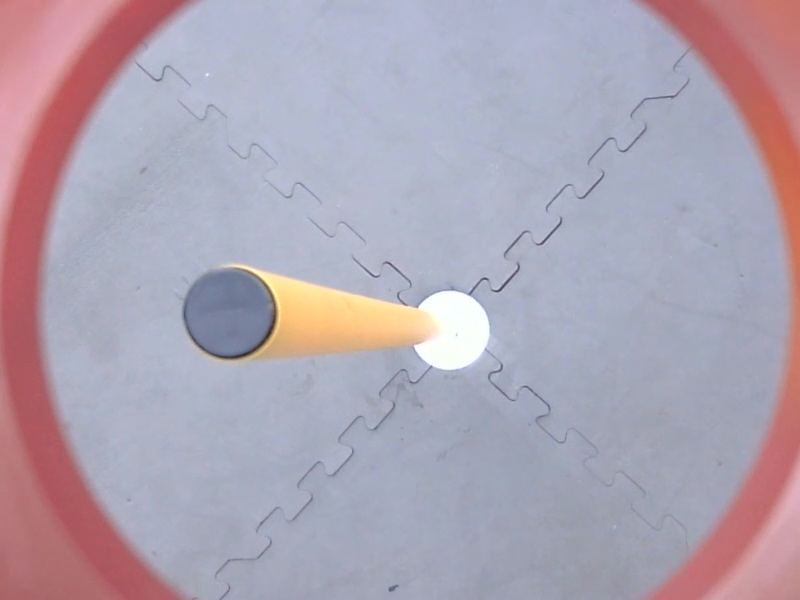tip: (174, 260, 286, 367)
